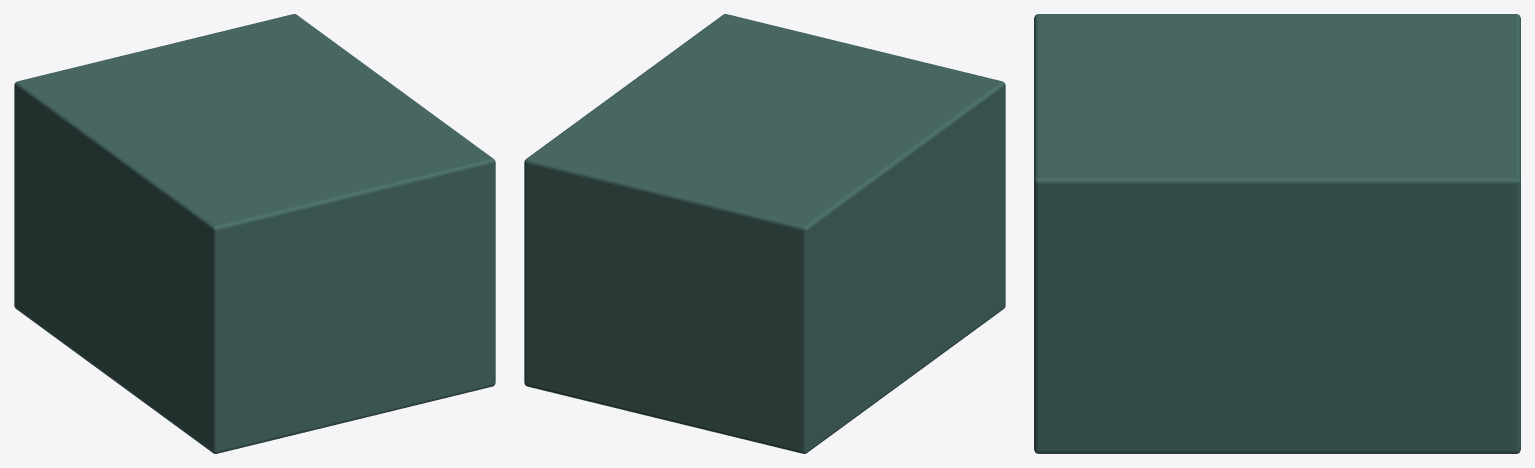
Rendered from liftWeight12.glb.
3 renders of one model, left to right at view 1: azimuth 30°, elevation 25°; view 2: azimuth 150°, elevation 25°; view 3: azimuth 270°, elevation 25°, orthographic. The views are drawn at different scales.
Parts seen in each view (by area): view 1: liftWeight12; view 2: liftWeight12; view 3: liftWeight12.
Boxes of the visible parts, <box> form: liftWeight12: <box>14,14,495,453</box>; liftWeight12: <box>524,14,1005,453</box>; liftWeight12: <box>1034,14,1520,453</box>.
Bounding box in the file's own units: 0.026 × 0.02 × 0.032.
